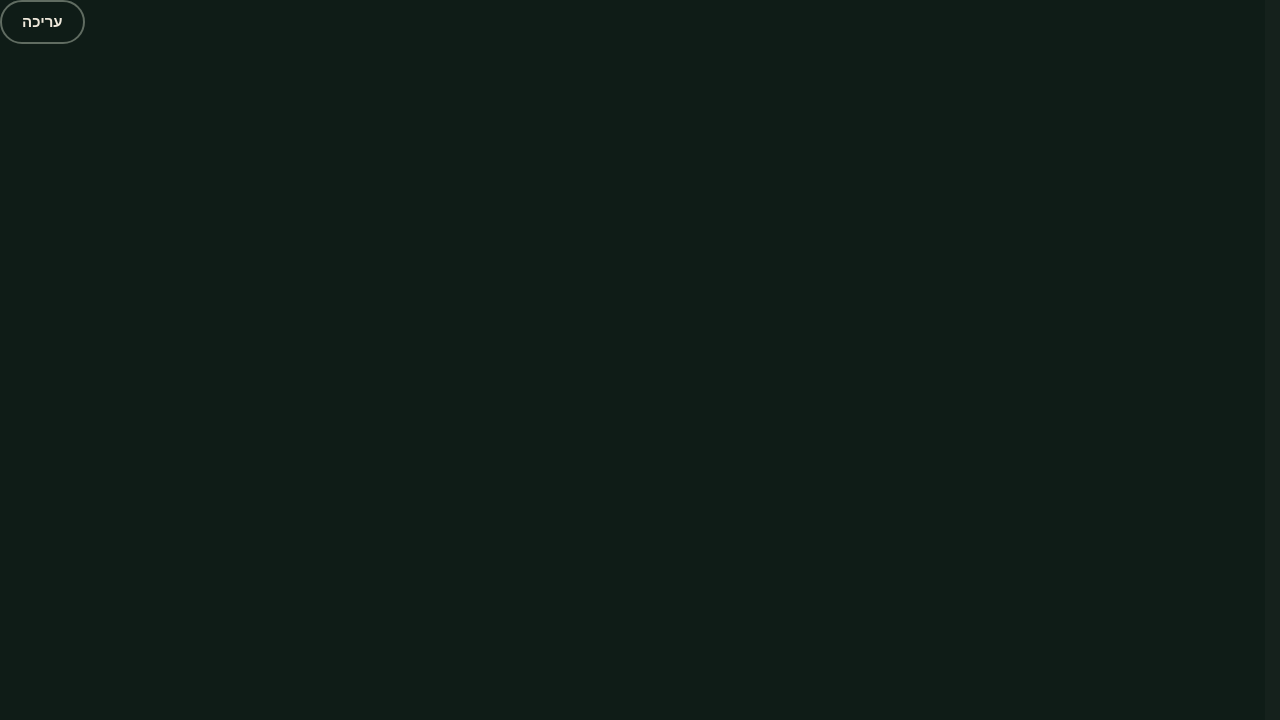
Scenario: AgentSheet: a new agent opens from the address › edit: closed until its button; the button names the agent
The width and height of the screenshot is (1280, 720).
Click the button with aria-label "עריכה של ״חשבוניות״".
click(42, 22)  # box x1=0 y1=0 x2=85 y2=44
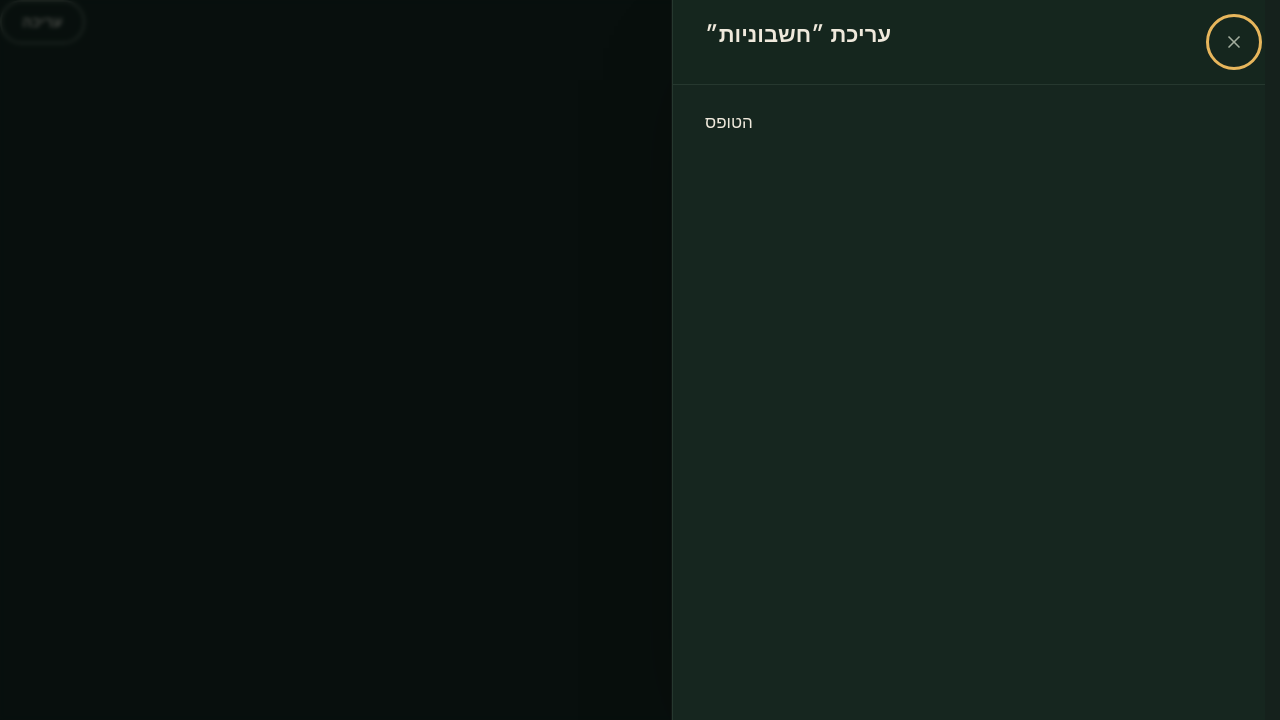
Expected: the dialog "עריכת ״חשבוניות״" shows "הטופס", x1=705 y1=112 x2=753 y2=133
